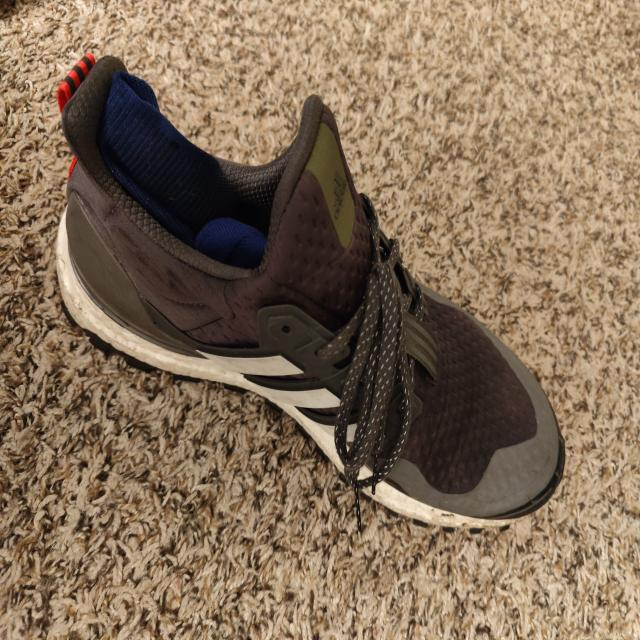black shoes: (58, 56, 556, 524)
